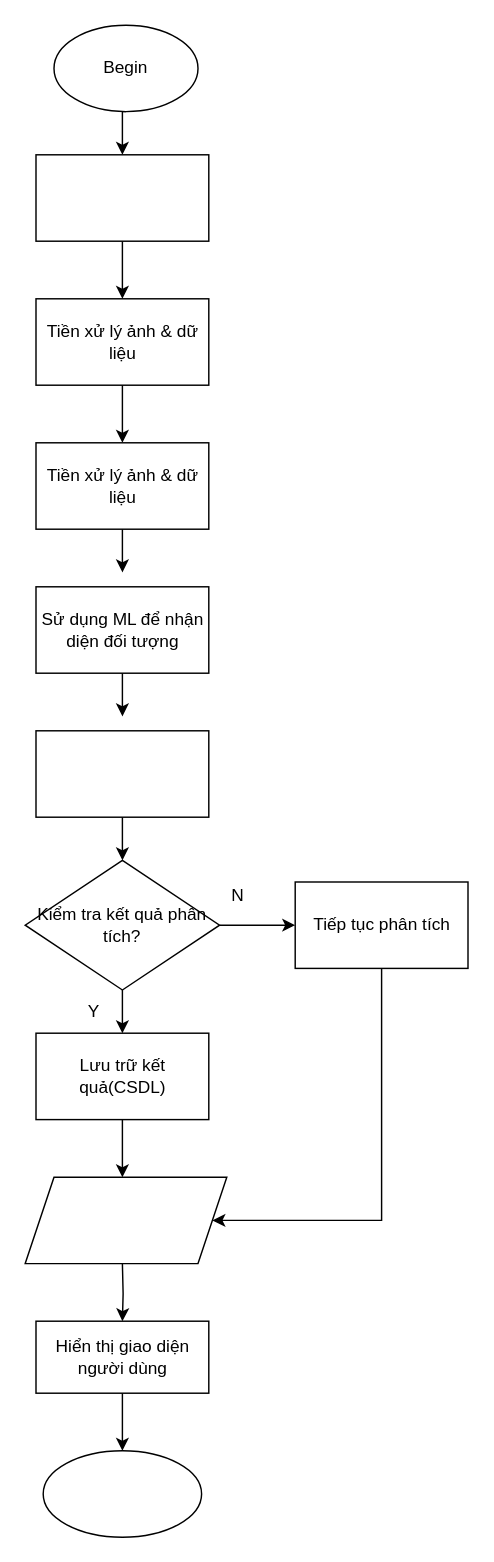
The diagram is 494 pixels wide and 1562 high, and some of its shapes have lost their labels. The centre of each missing label's shape, as x and y in pixels:
End: point 122,1493
Gửi dữ liệu qua API: point 125,1220
Nhận dữ liệu từ camera: point 122,197
Phát hiện sự kiện, phân tích sự kiện: point 122,773
